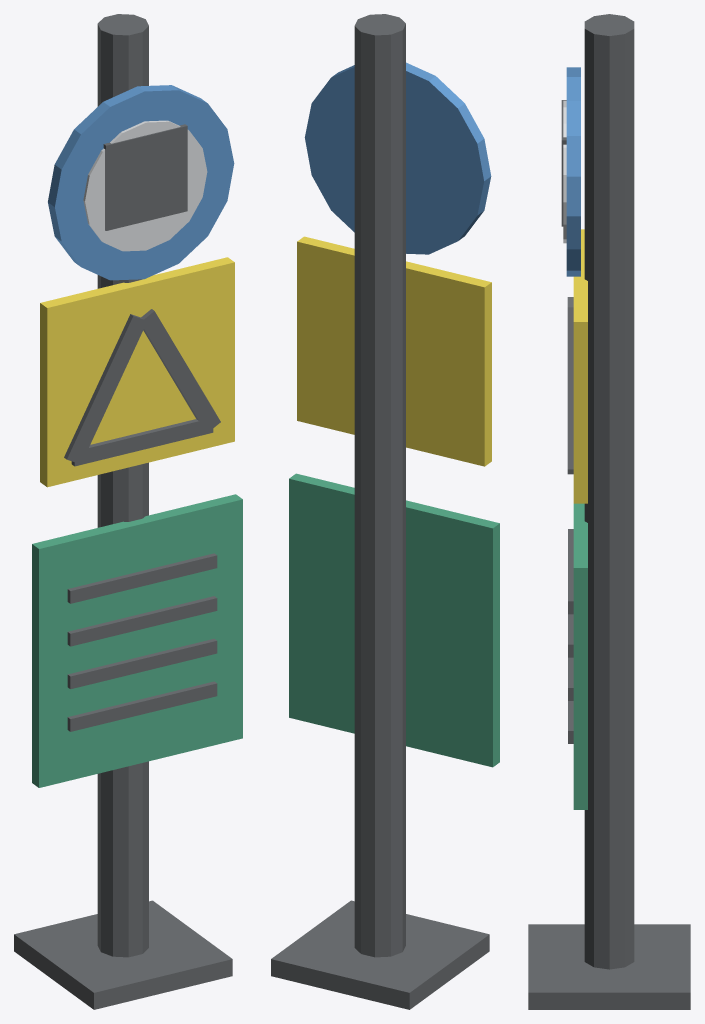
The model's file is recycling-and-waste-transfer-yard-recycling-and-waste--5d8303c1__34929.glb.
3 views of the same model, side by side, from view 1: azimuth 30°, elevation 25°; view 2: azimuth 150°, elevation 25°; view 3: azimuth 270°, elevation 25° (orthographic).
Parts seen in each view (by area): view 1: recycling-and-waste-transfer-yard-safety-sign-set; view 2: recycling-and-waste-transfer-yard-safety-sign-set; view 3: recycling-and-waste-transfer-yard-safety-sign-set.
Boxes of the visible parts, x1=… form: recycling-and-waste-transfer-yard-safety-sign-set: x1=14, y1=14, x2=242, y2=1009; recycling-and-waste-transfer-yard-safety-sign-set: x1=271, y1=14, x2=499, y2=1009; recycling-and-waste-transfer-yard-safety-sign-set: x1=528, y1=14, x2=690, y2=1009.
Size of the model in its own units: 0.5 by 2.2 by 0.34.
